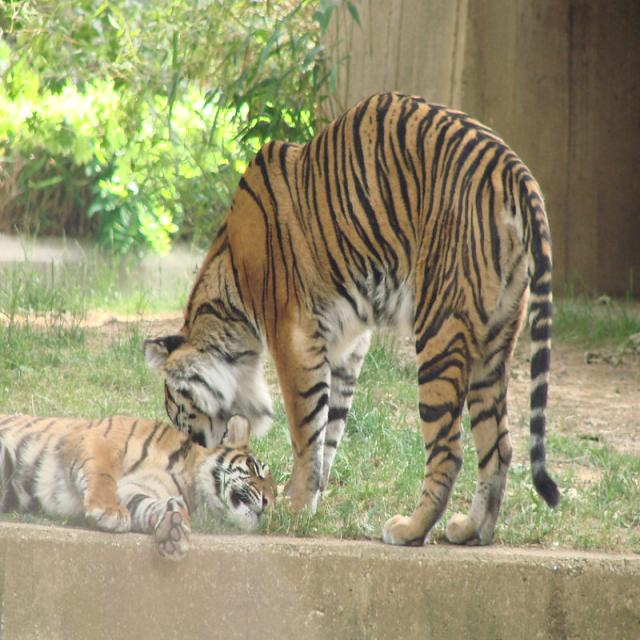Tiger: (138, 88, 564, 546), (0, 412, 282, 562)
